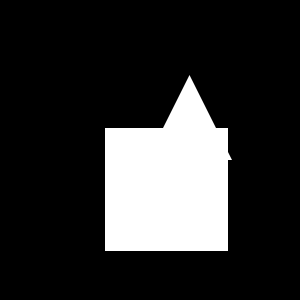circle: (105, 128, 228, 251)
triangle: (147, 75, 232, 160)
